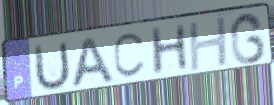A: (68, 34, 117, 91)
C: (112, 30, 148, 80)
G: (228, 10, 267, 66)
H: (187, 15, 231, 75), (148, 21, 191, 79)
U: (33, 39, 72, 94)
